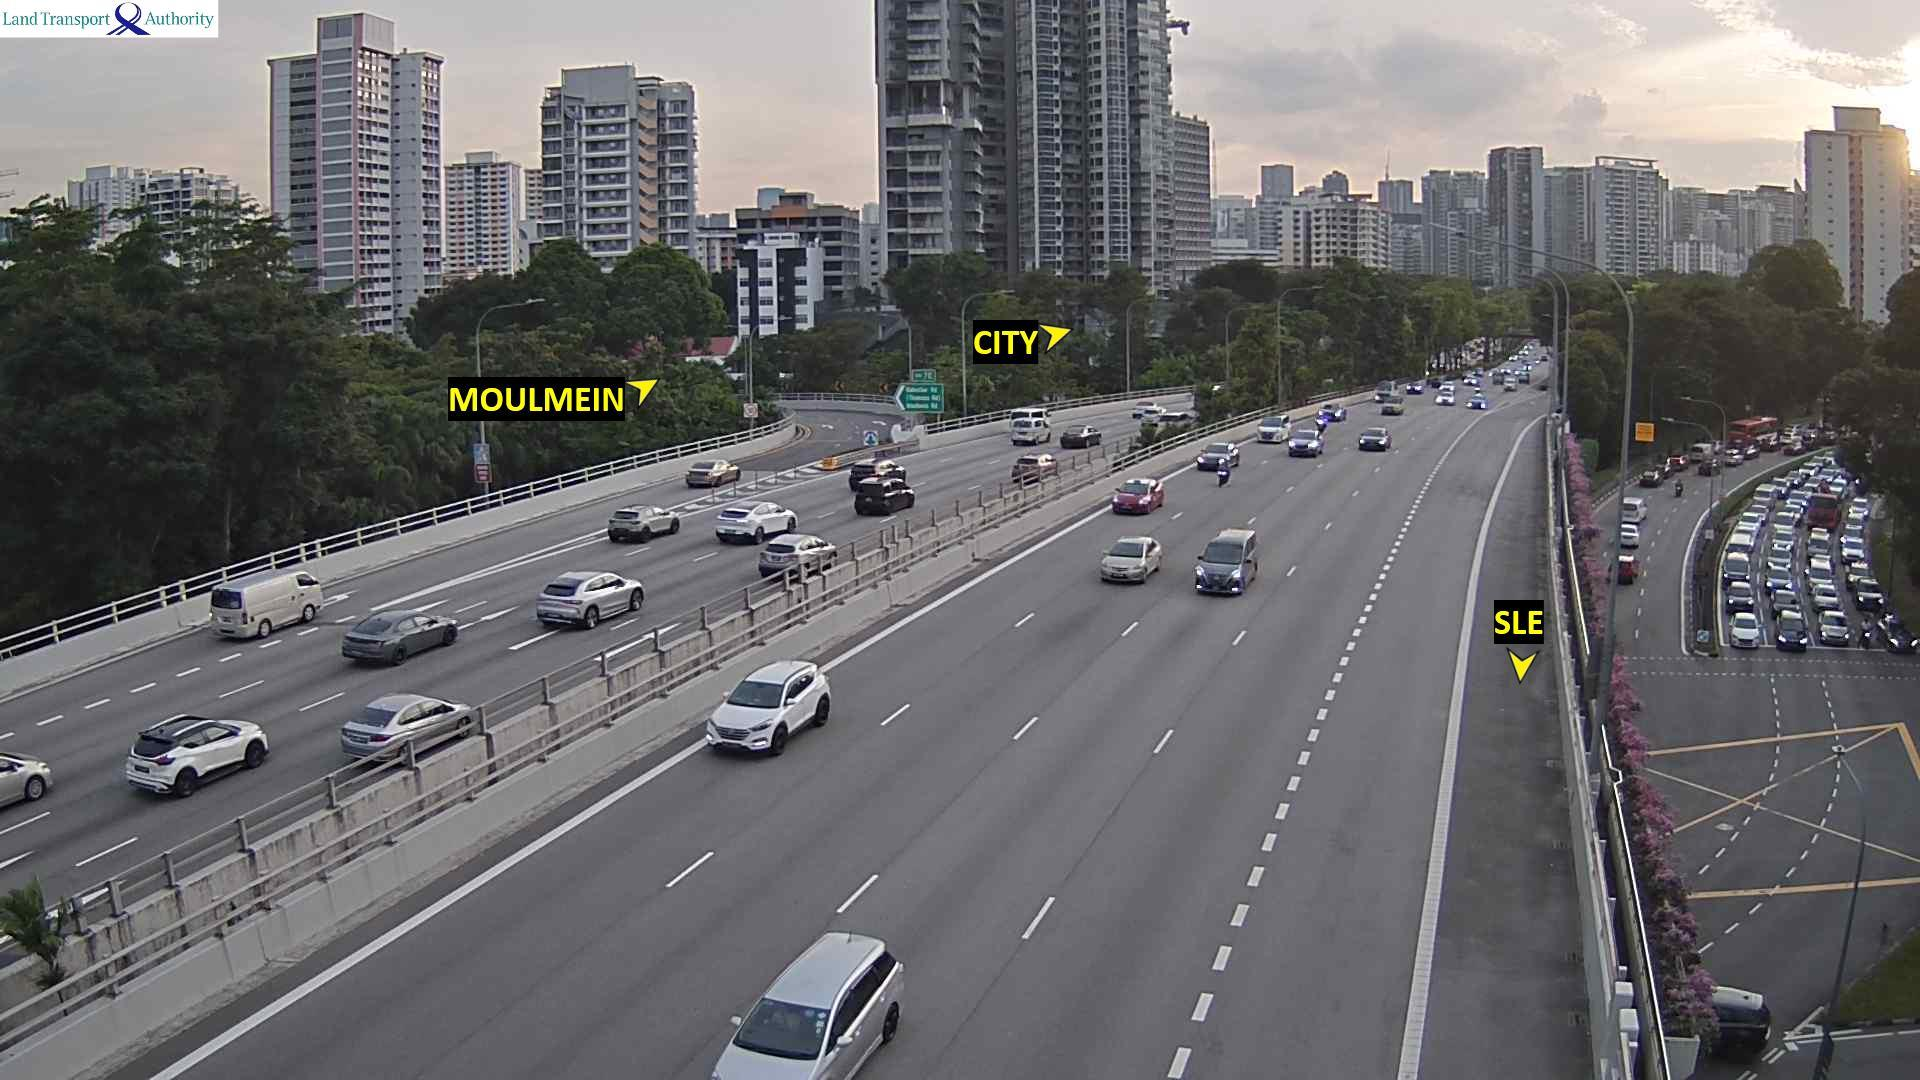incoming: (713, 994, 857, 1080), (704, 684, 795, 754), (1197, 544, 1253, 596), (1101, 543, 1151, 585), (1779, 611, 1811, 651), (1115, 481, 1151, 516), (1884, 620, 1920, 655), (1732, 616, 1764, 650), (1821, 611, 1851, 645), (1726, 582, 1756, 610), (1199, 442, 1232, 467), (1809, 494, 1835, 524), (1258, 415, 1285, 443), (1357, 428, 1390, 450), (1812, 583, 1841, 608), (1857, 579, 1885, 604), (1289, 434, 1320, 456), (1766, 568, 1794, 590), (1723, 554, 1749, 577), (1843, 538, 1867, 561), (1772, 590, 1801, 609), (1735, 511, 1761, 531), (1724, 534, 1754, 551), (1319, 404, 1347, 422), (1752, 486, 1775, 507), (1808, 535, 1830, 556), (1769, 528, 1796, 545), (1381, 398, 1404, 417), (1805, 566, 1831, 582), (1850, 495, 1871, 514), (1785, 489, 1807, 507), (1769, 549, 1793, 564), (1775, 509, 1795, 527), (1849, 565, 1874, 579), (1435, 396, 1455, 407), (1467, 400, 1487, 410)
